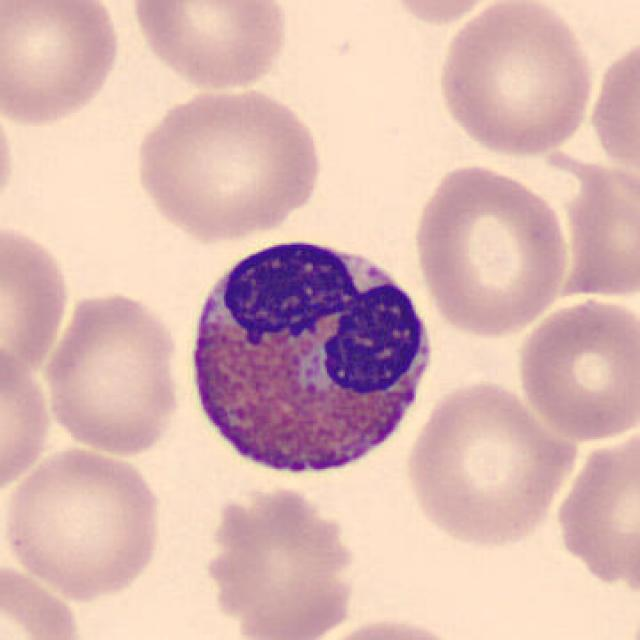Eosinophil: (174, 220, 444, 492)
RBC: (400, 375, 581, 552), (130, 83, 327, 243), (407, 159, 573, 340), (199, 479, 368, 640), (0, 444, 167, 603), (432, 0, 597, 159), (37, 288, 187, 460), (512, 294, 638, 444), (551, 422, 640, 608), (0, 0, 124, 132), (124, 0, 293, 93), (549, 163, 640, 304), (0, 215, 73, 386), (0, 337, 55, 500), (583, 42, 640, 180), (0, 559, 89, 640), (304, 612, 475, 640), (377, 0, 512, 28), (0, 86, 20, 235)
